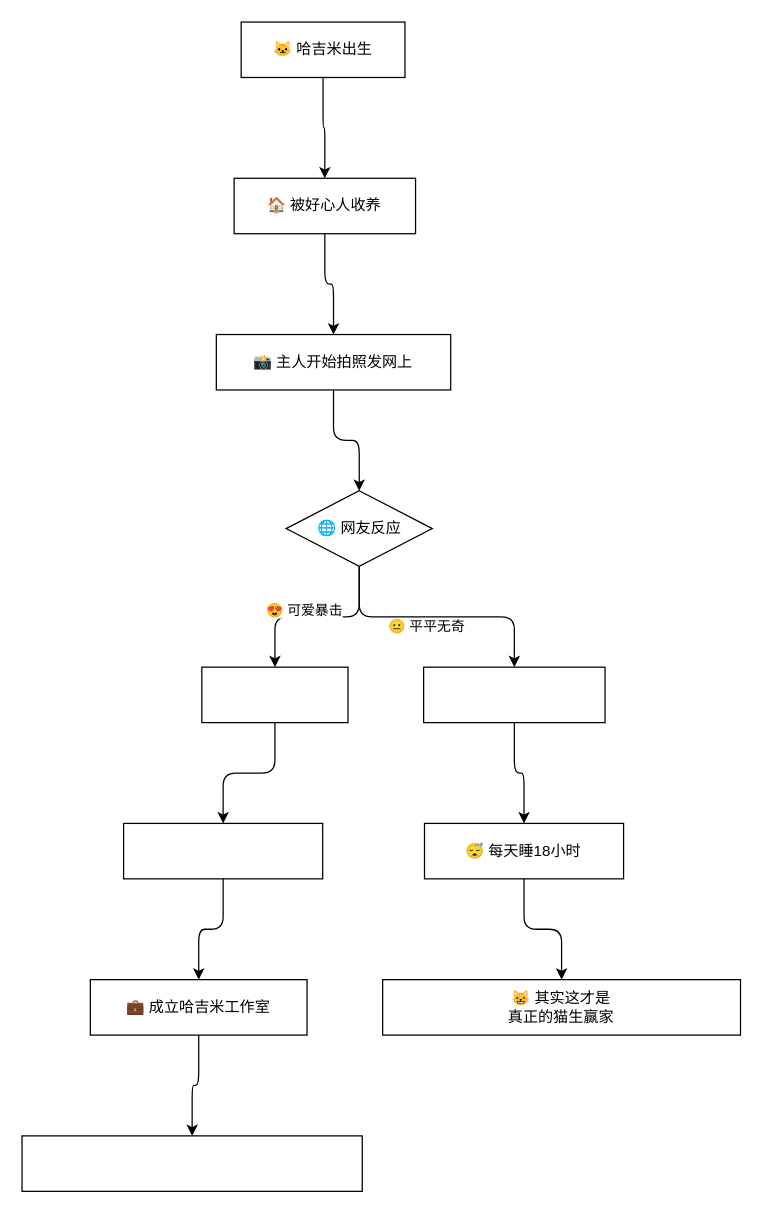
Image size: 764x1213. Some labels were removed from this diagram. The shapes that lost their labels are listed below. From the top down, each one's centre as x and y in pixels, then its label:
At pixel 274 694: "🔥 一夜爆红".
At pixel 513 694: "📉 继续当普通猫".
At pixel 222 850: "🛍️ 接代言/带货".
At pixel 191 1163: "🏆 猫生巅峰: 年入千万喵粮".
